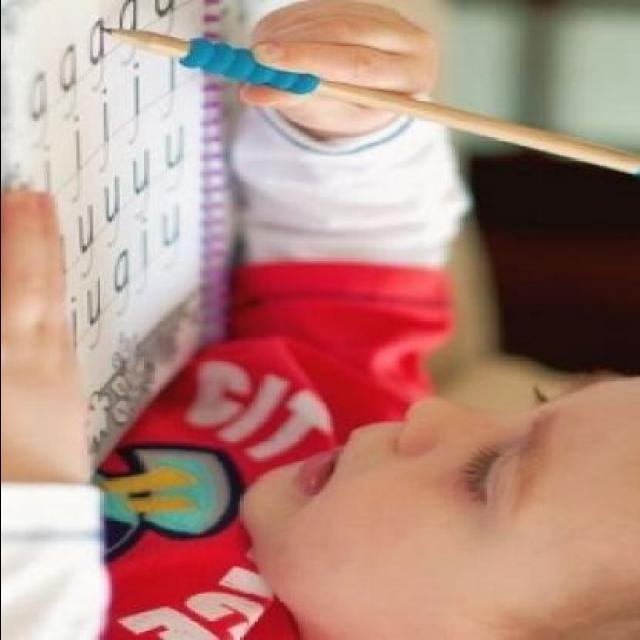pencil: (86, 16, 188, 58)
